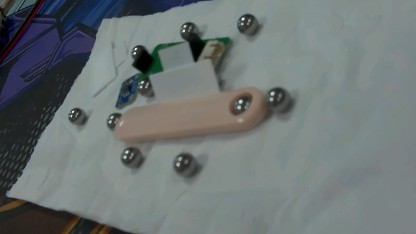ironball: (264, 84, 289, 112), (169, 150, 197, 174), (235, 12, 258, 38), (117, 145, 141, 168), (231, 94, 251, 116), (63, 106, 88, 123), (135, 76, 156, 95), (105, 110, 123, 129), (178, 19, 195, 38), (127, 41, 147, 57)
